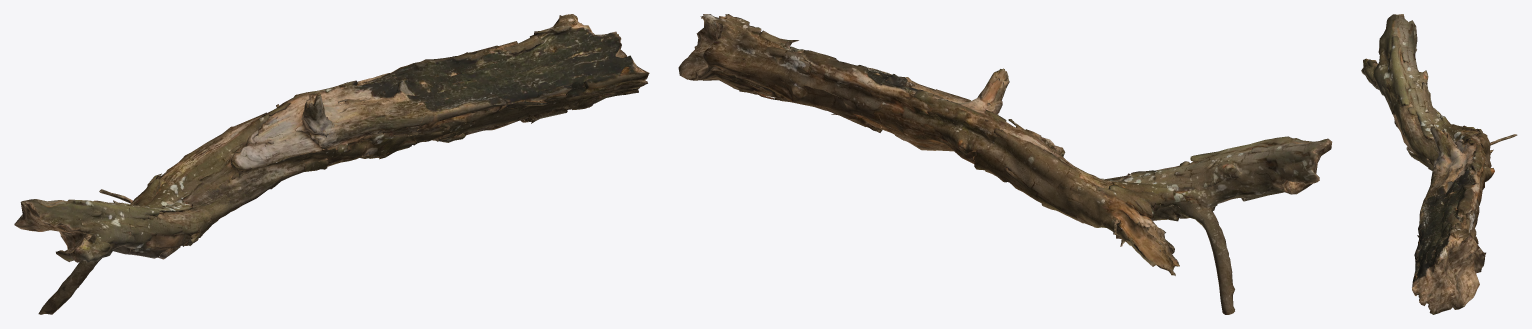
Rendered from dead_tree_trunk_02.glb.
3 renders of one model, left to right at view 1: azimuth 30°, elevation 25°; view 2: azimuth 150°, elevation 25°; view 3: azimuth 270°, elevation 25°, orthographic. The views are drawn at different scales.
Visible parts, largest first — view 1: dead_tree_trunk_02; view 2: dead_tree_trunk_02; view 3: dead_tree_trunk_02.
Boxes of the visible parts, <box> form: dead_tree_trunk_02: <box>14,14,649,314</box>; dead_tree_trunk_02: <box>678,14,1332,314</box>; dead_tree_trunk_02: <box>1361,14,1517,314</box>.
Bounding box in the file's own units: 4.05 × 1.06 × 1.06.
1 material, 1 textured.
